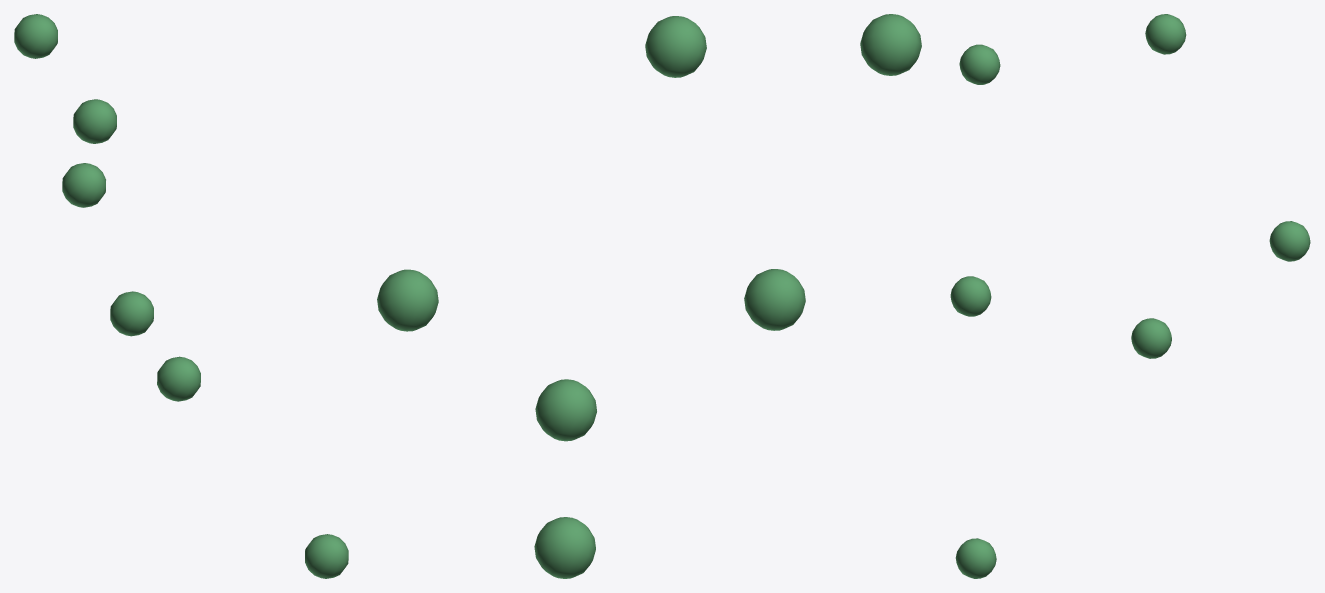
3 views of the same model, side by side, from view 1: azimuth 30°, elevation 25°; view 2: azimuth 150°, elevation 25°; view 3: azimuth 270°, elevation 25° (orthographic). The views are drawn at different scales.
Visible parts, largest first — view 1: 右侧膀胱外侧淋巴结; view 2: 右侧膀胱外侧淋巴结; view 3: 右侧膀胱外侧淋巴结.
Boxes of the visible parts, bbox=[...] form: 右侧膀胱外侧淋巴结: bbox=[14, 14, 348, 578]; 右侧膀胱外侧淋巴结: bbox=[377, 14, 921, 578]; 右侧膀胱外侧淋巴结: bbox=[950, 14, 1310, 578].
Bounding box in the file's own units: 0.0271 × 0.0493 × 0.0335.
